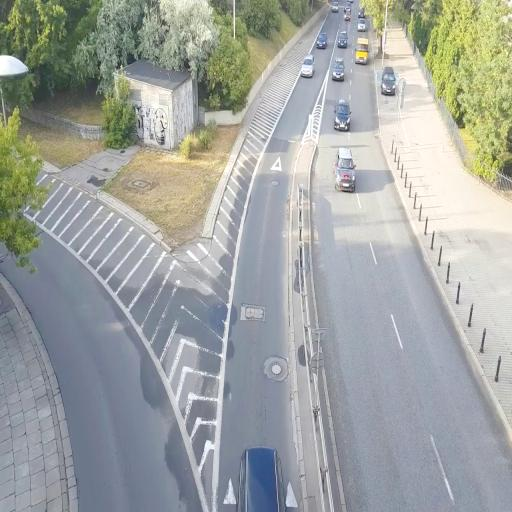vehicle: (334, 148, 356, 192), (333, 100, 351, 132), (380, 68, 398, 96), (330, 58, 346, 82), (301, 55, 315, 78), (337, 31, 348, 49), (316, 33, 328, 49)
